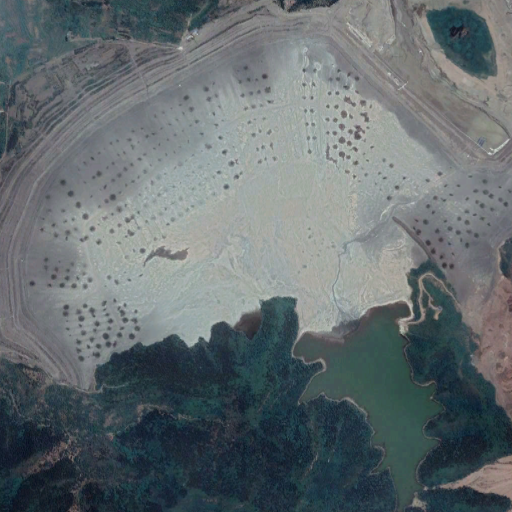tp: (13, 17, 512, 507)
